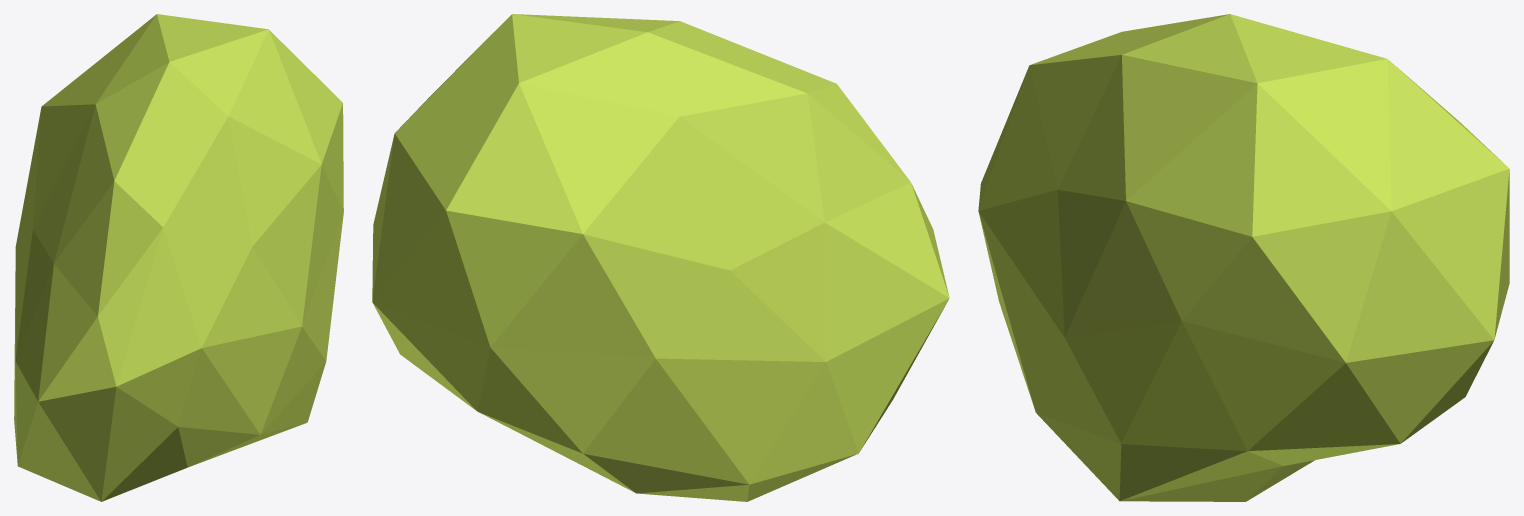
Rendered from Rock2.obj.
3 renders of one model, left to right at view 1: azimuth 30°, elevation 25°; view 2: azimuth 150°, elevation 25°; view 3: azimuth 270°, elevation 25°, orthographic. The views are drawn at different scales.
Parts seen in each view (by area): view 1: GeoSphere001; view 2: GeoSphere001; view 3: GeoSphere001.
Boxes of the visible parts, <box> form: GeoSphere001: <box>14,14,343,501</box>; GeoSphere001: <box>372,14,949,501</box>; GeoSphere001: <box>978,14,1509,501</box>.
Bounding box in the file's own units: 2.14 × 2.03 × 2.
